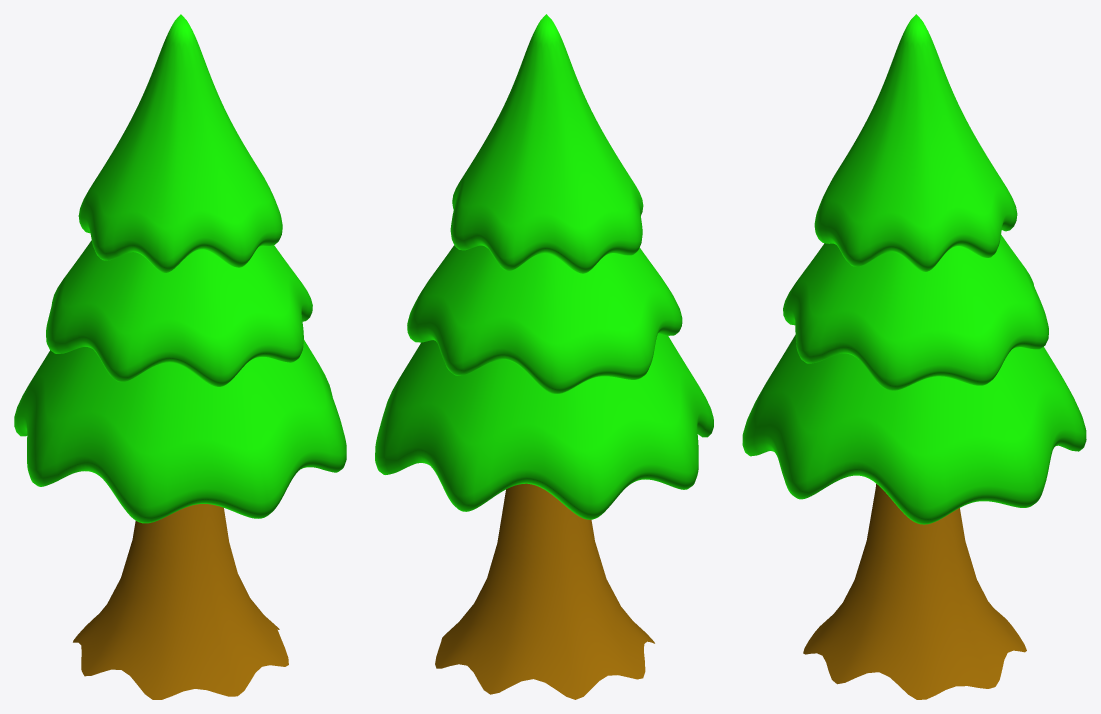
The model's file is pine2.fbx.
The picture shows the model from 3 angles, left to right: view 1: azimuth 30°, elevation 25°; view 2: azimuth 150°, elevation 25°; view 3: azimuth 270°, elevation 25°; orthographic projection.
Parts seen in each view (by area): view 1: pine3; view 2: pine3; view 3: pine3.
Boxes of the visible parts, <box> form: pine3: <box>14,14,346,699</box>; pine3: <box>375,14,713,699</box>; pine3: <box>742,14,1086,699</box>.
Bounding box in the file's own units: 126 × 258 × 126.
